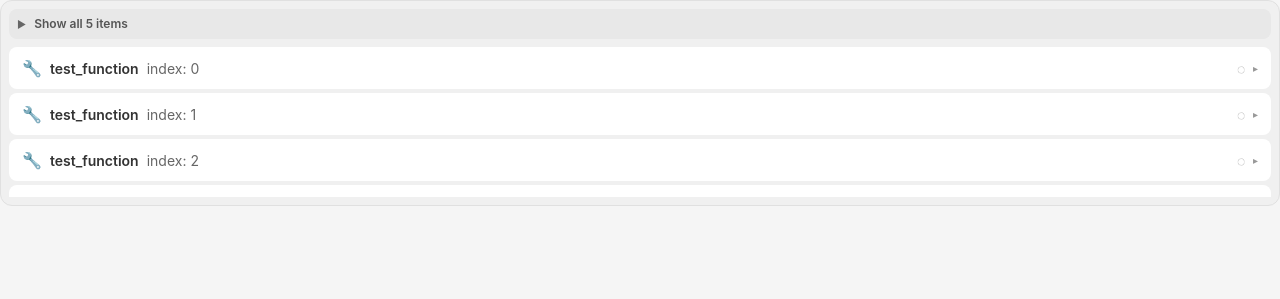
Test case: MetadataPill — container expansion › toggles the expanded class on the container
Click the element showing "▶ Show all 5 items" at [640, 24], box [9,9,1271,39]
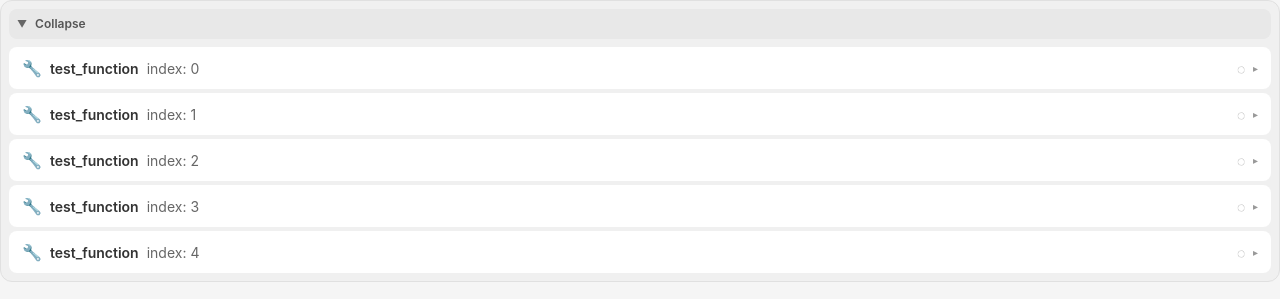
Check: the text "Collapse" is shown, box [35,15,86,33]
